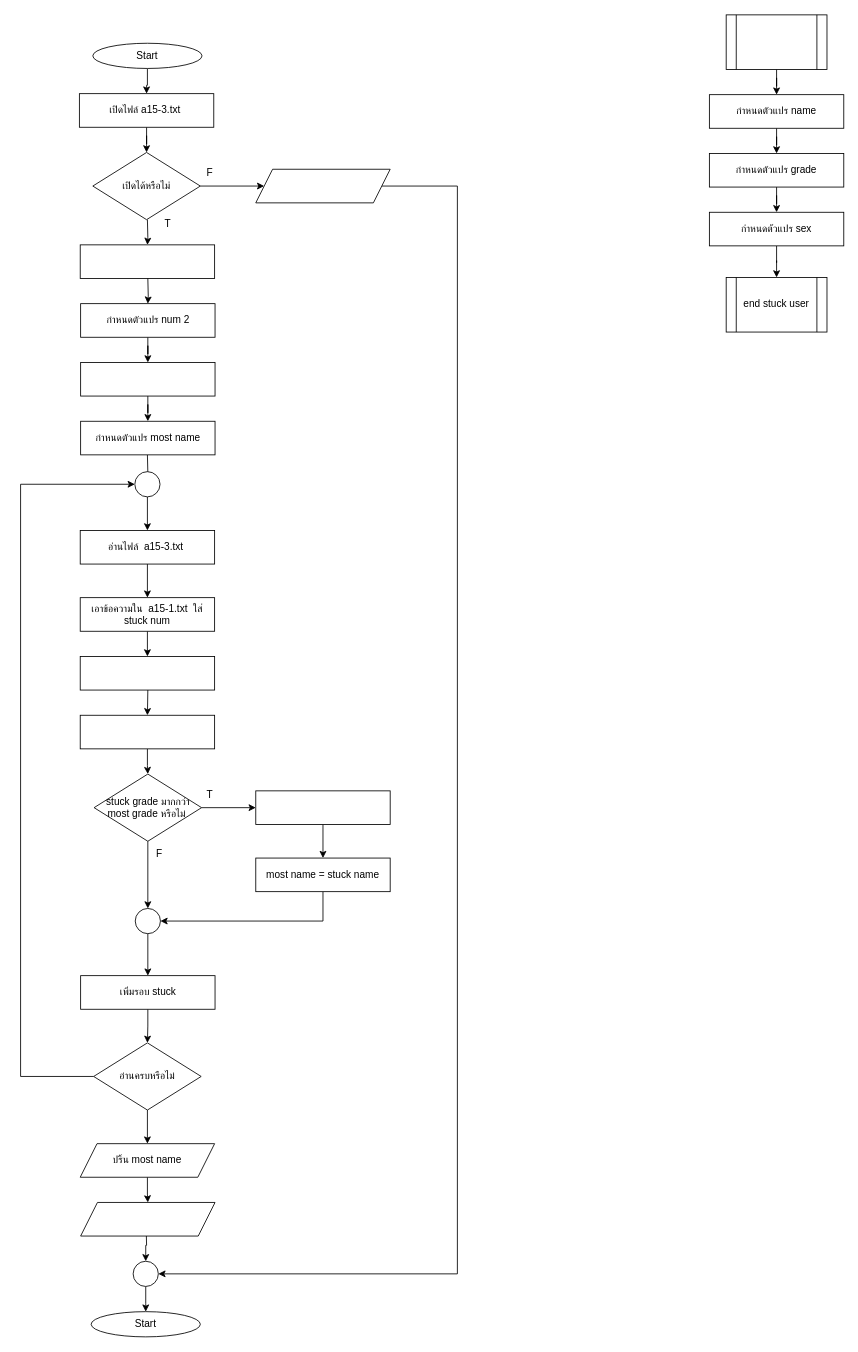
Some shapes in this 858 by 1352 pixel diagram are drawn without their labels. The box of each missing label's shape, as (x1, y1, x2, y2) in pixels:
Err: (255, 168, 390, 203)
most grade = stuck grade: (255, 790, 390, 824)
start stuck user: (725, 14, 827, 69)
กำหนดตัวแปร most grade: (80, 362, 215, 396)
กำหนดตัวแปร num 1: (79, 244, 215, 278)
ปริ้น most grade: (80, 1202, 215, 1236)
เอาข้อความใน a15-1.txt ใส่ stuck grade: (79, 656, 215, 690)
เอาข้อความใน a15-1.txt ใส่ stuck sex: (79, 714, 215, 749)
